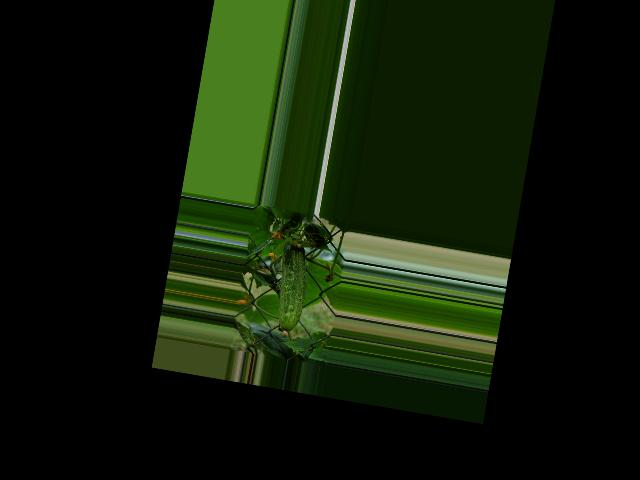cucumber: (270, 237, 313, 338)
